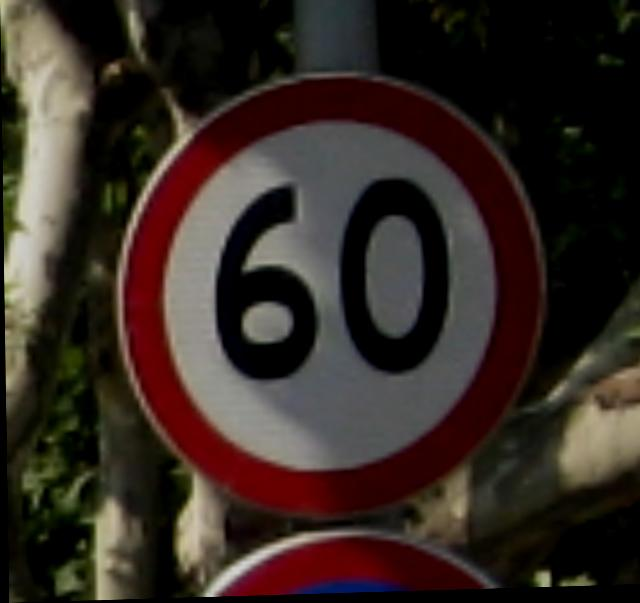limit60: (101, 61, 554, 530)
